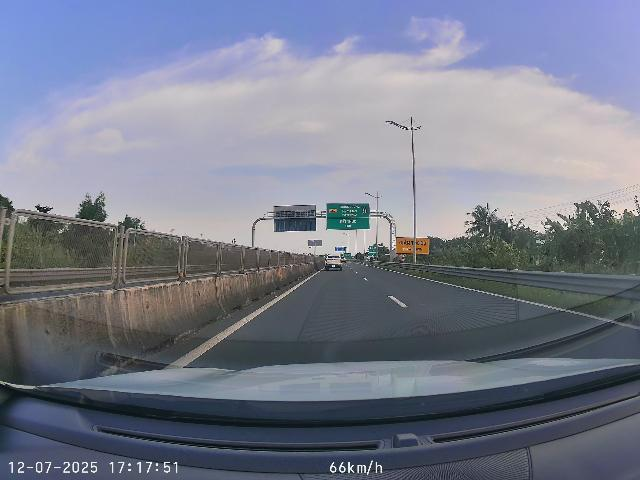438-ket-thuc-duong-cao-toc: (362, 207, 367, 214)
